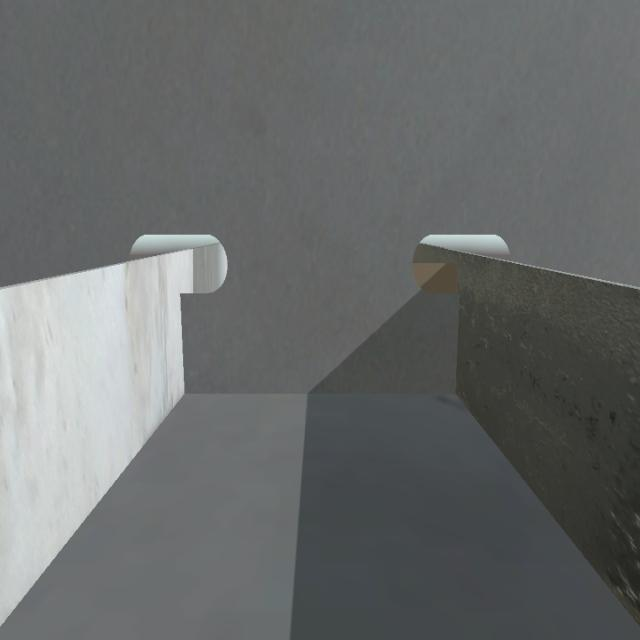fillet_yong_jeop_jang: (182, 383, 460, 404)
longi_yong_jeop_jang: (446, 260, 465, 399), (173, 288, 192, 402)
plate_behind: (408, 256, 462, 298)
